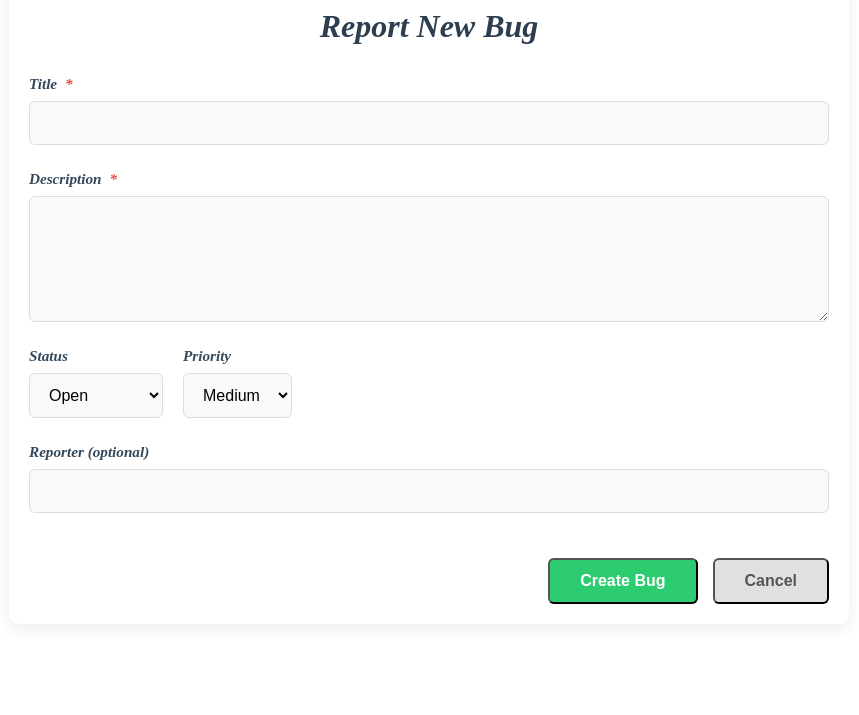
Test: BugFormPage › should show error when form submission fails
Type "New Bug" into the field with test id "input-title" at (429, 123), box [29,101,829,145]
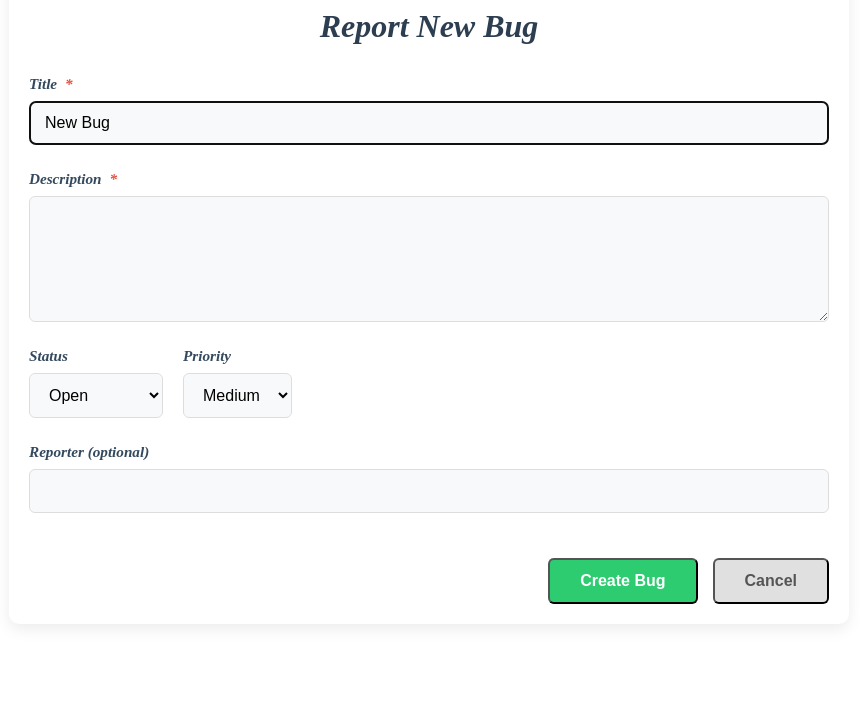
Type "Test description" into the text box with test id "input-description" at (429, 259), box [29,196,829,322]
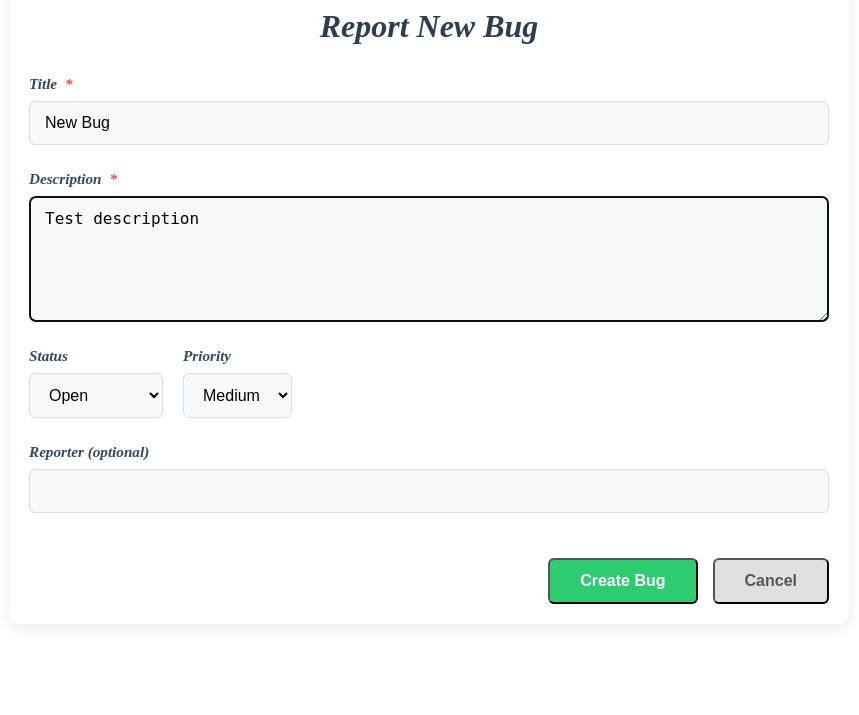
// Use findBy* which automatically waits for the element
Click the button "Create Bug" at (623, 581), box [548,558,698,604]
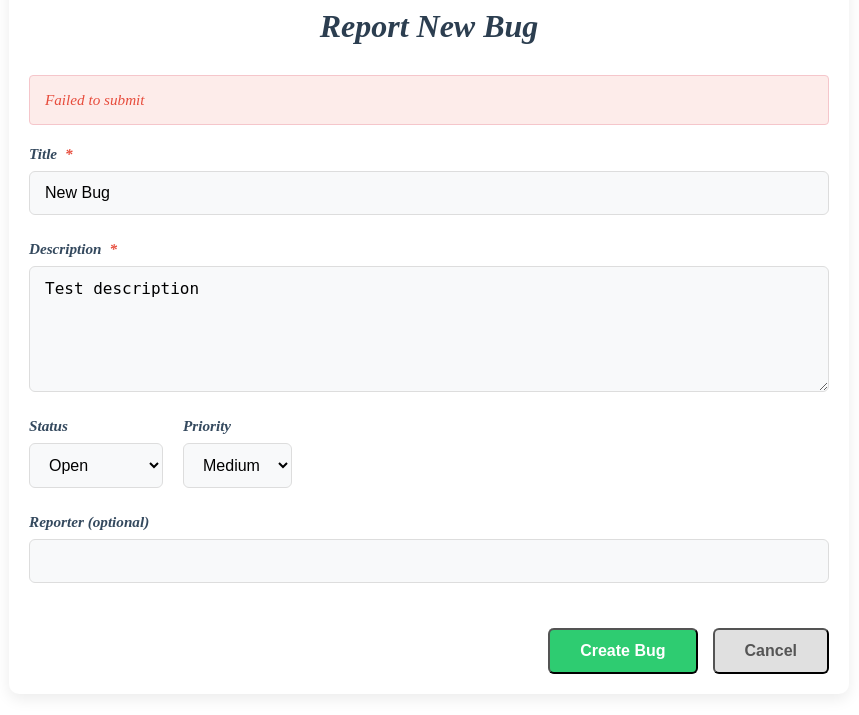
Check: the text "Failed to submit" is shown, box [29,75,829,125]
Check: the text with test id "error-message" reads "Failed to submit", box [45,91,145,108]
